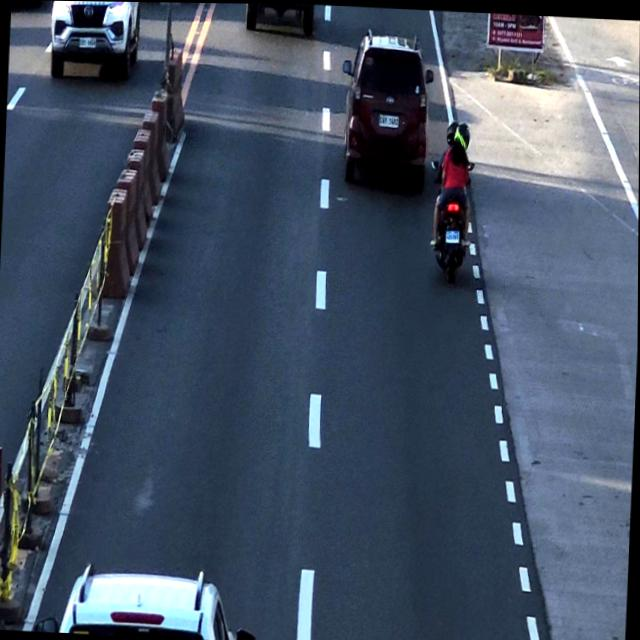Car: (59, 564, 235, 640), (346, 37, 429, 177)
License-Plate: (377, 110, 399, 129), (444, 228, 462, 241)
Motorcycle: (433, 122, 476, 288)
